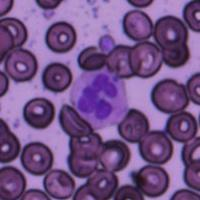N: (70, 67, 129, 129)
